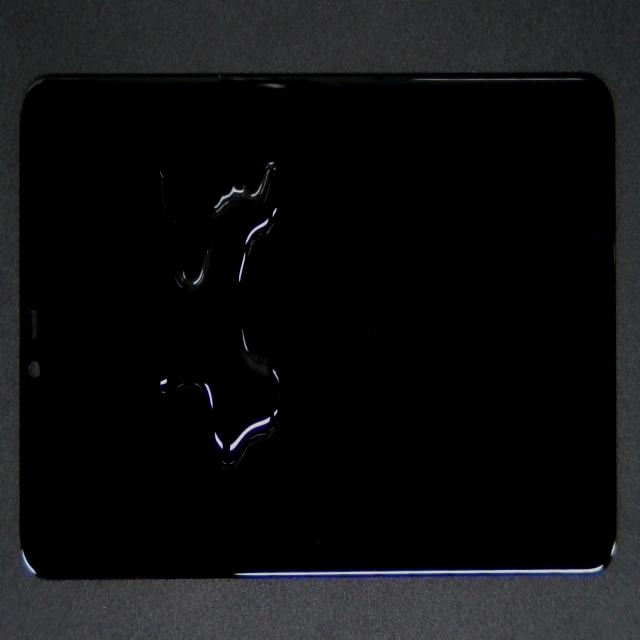oil: (87, 254, 359, 640)
